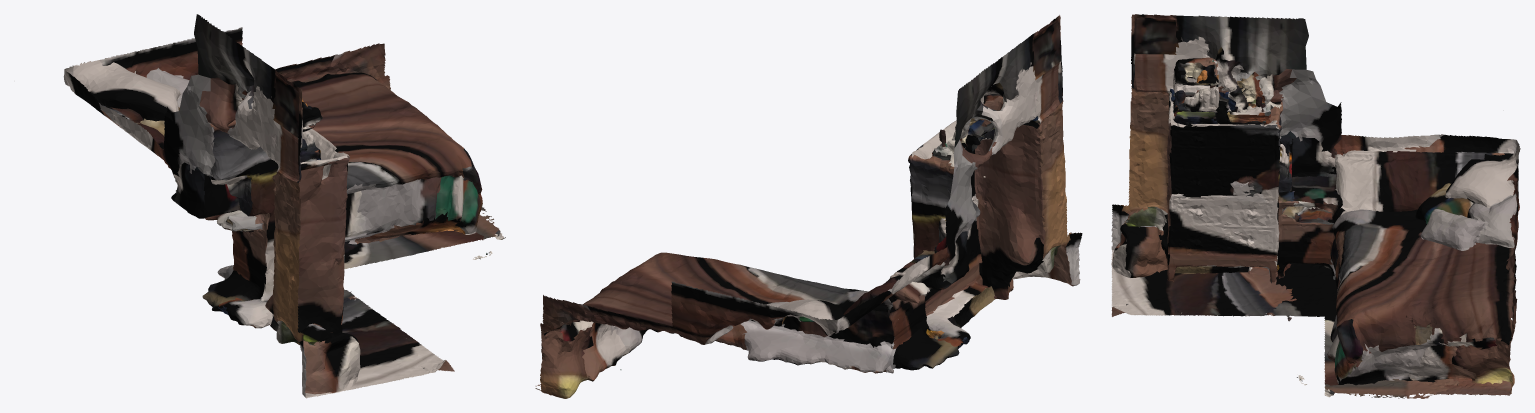
Rendered from bed.fbx.
3 views of the same model, side by side, from view 1: azimuth 30°, elevation 25°; view 2: azimuth 150°, elevation 25°; view 3: azimuth 270°, elevation 25° (orthographic). The views are drawn at different scales.
Visible parts, largest first — view 1: Bed; view 2: Bed; view 3: Bed.
Part boxes in pixels (x1,y1,x2,y2): Bed: (63,14,505,398); Bed: (535,15,1082,398); Bed: (1111,14,1520,398).
Bounding box in the file's own units: 383 × 300 × 428.
